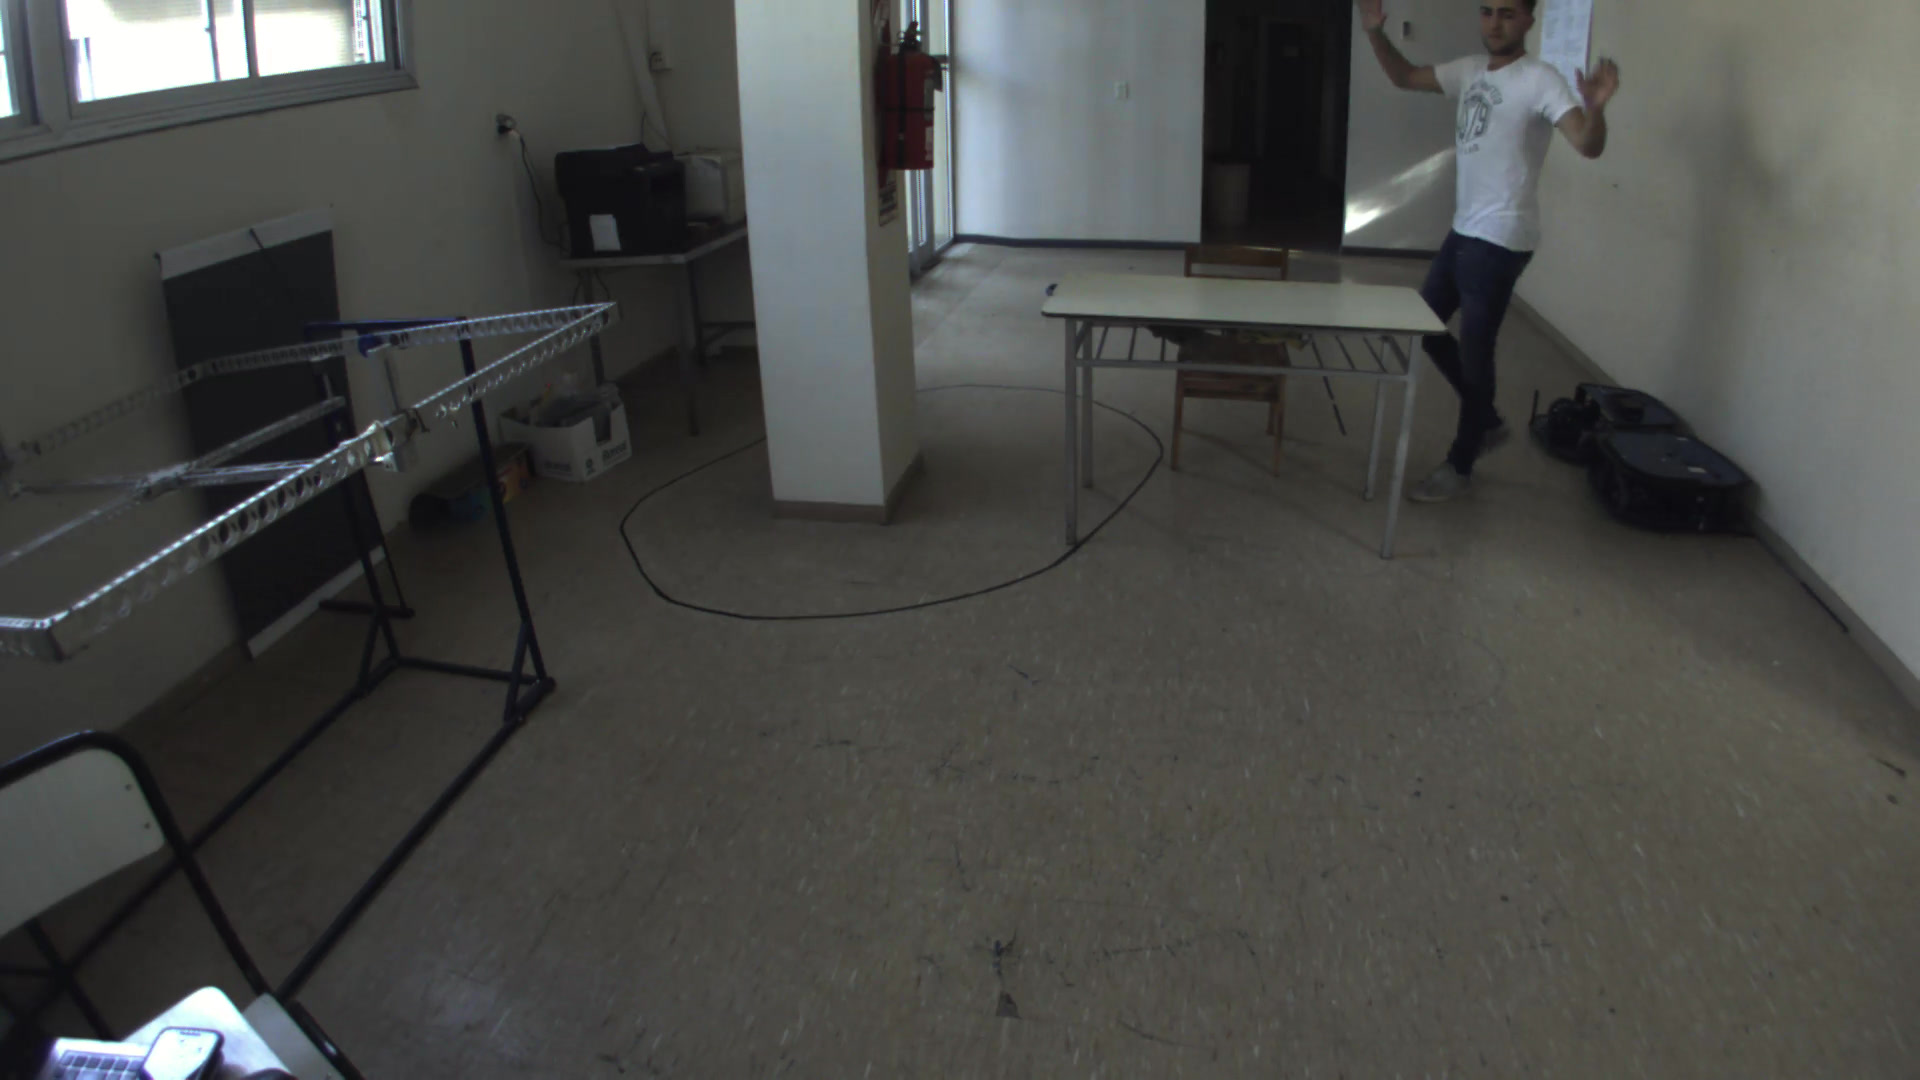hand: (1575, 55, 1626, 127)
